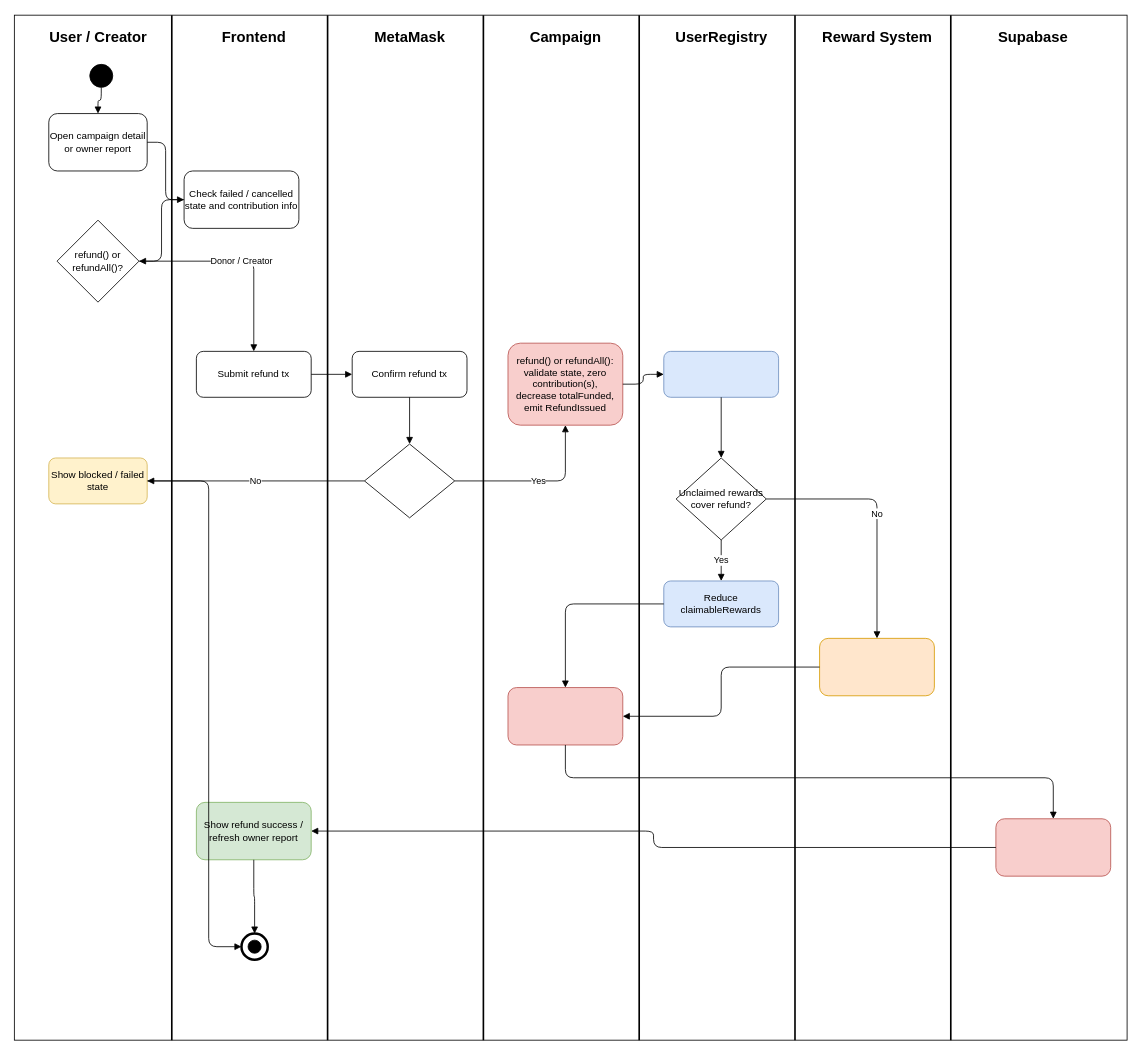
Image size: 1141x1055. Some labels were removed from this diagram. The shapes that lost their labels are listed below. From the top down, each one's box as (x1, y1, x2, y2) in pixels, then its label:
(663, 351, 779, 397): reverseDonation(user, amount)
(364, 443, 455, 518): Transaction confirmed?
(819, 638, 934, 696): revokeRewards() and burn CFR if already claimed
(507, 687, 623, 745): Transfer refund ETH to donor(s)
(995, 818, 1111, 876): Decode RefundIssued logs and insert refund rows
